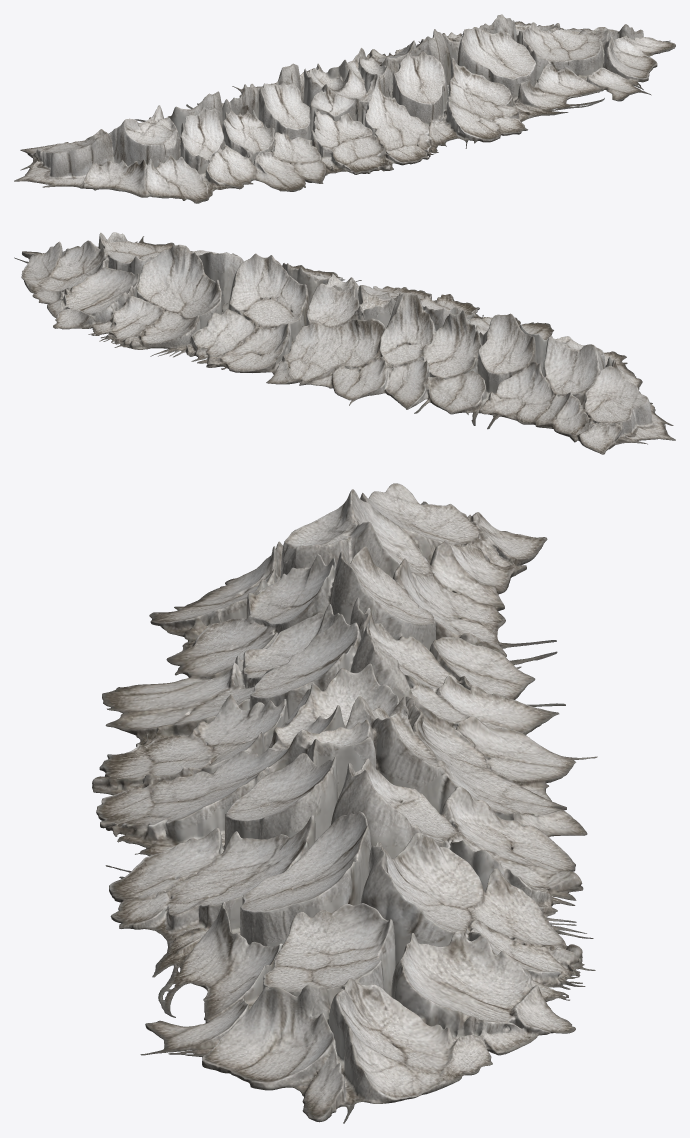
File: Meshy_AI_Powdered_Peaks_1017110153_texture.fbx
3 views of the same model, one above another, from view 1: azimuth 30°, elevation 25°; view 2: azimuth 150°, elevation 25°; view 3: azimuth 270°, elevation 25° (orthographic). The views are drawn at different scales.
Visible parts, largest first — view 1: mesh_node; view 2: mesh_node; view 3: mesh_node.
Boxes of the visible parts, bbox=[...] form: mesh_node: bbox=[14, 14, 675, 203]; mesh_node: bbox=[14, 232, 675, 454]; mesh_node: bbox=[92, 483, 597, 1123].
Bounding box in the file's own units: 190 × 18.49 × 65.3.
Materials: 1 (1 with a texture image).
